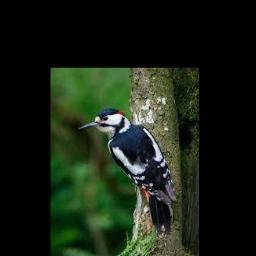Woodpecker: (78, 108, 177, 234)
